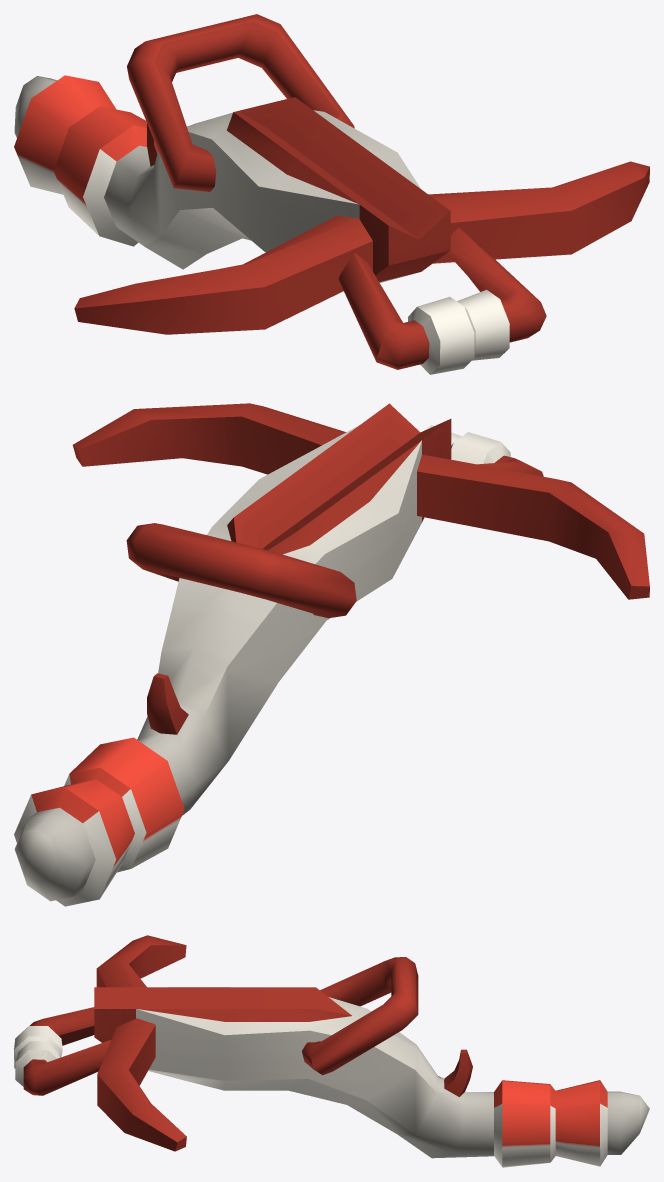
Rendered from kk_adventurers_champignon_arbalete.glb.
The picture shows the model from 3 angles, top to bottom: view 1: azimuth 30°, elevation 25°; view 2: azimuth 150°, elevation 25°; view 3: azimuth 270°, elevation 25°; orthographic projection. The views are drawn at different scales.
Parts seen in each view (by area): view 1: crossbow_1handed; view 2: crossbow_1handed; view 3: crossbow_1handed.
Part boxes in pixels (box(x1,y1,x2,y2)): crossbow_1handed: box(14, 14, 649, 374); crossbow_1handed: box(14, 403, 649, 906); crossbow_1handed: box(14, 935, 649, 1167).
Size of the model in its own units: 0.9114 by 0.4059 by 1.22.
Materials: 1 (1 with a texture image).
